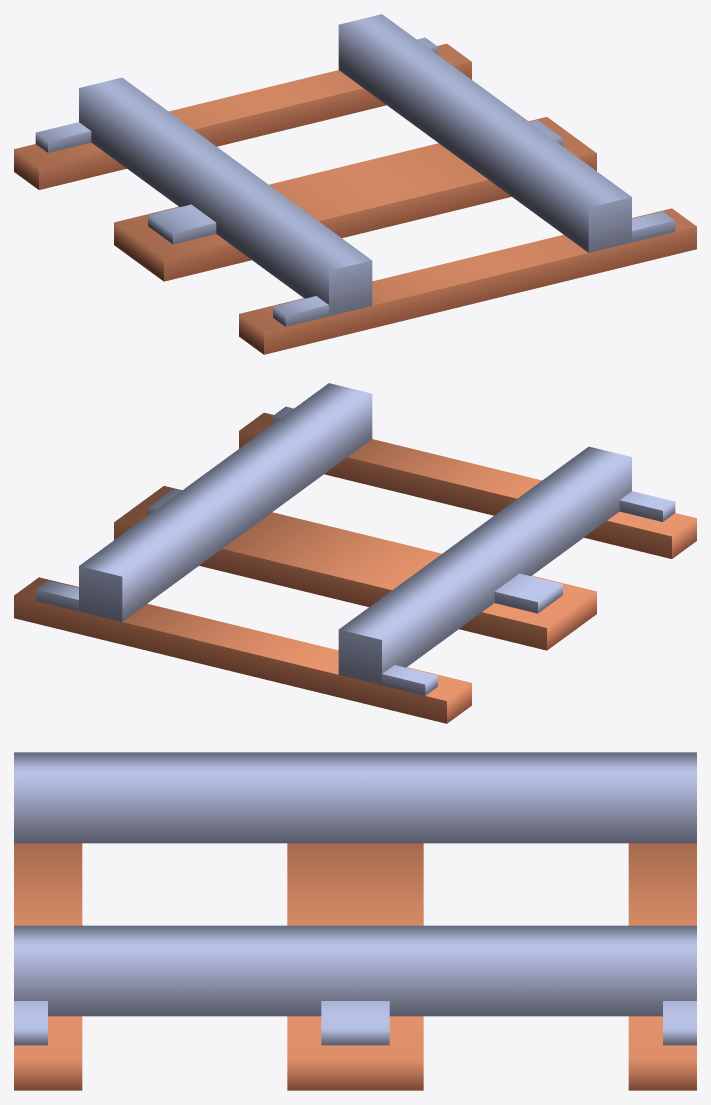
File: kenney-train-track-detailed.glb
3 renders of one model, top to bottom at view 1: azimuth 30°, elevation 25°; view 2: azimuth 150°, elevation 25°; view 3: azimuth 270°, elevation 25°, orthographic. The views are drawn at different scales.
Parts seen in each view (by area): view 1: track-detailed; view 2: track-detailed; view 3: track-detailed.
Boxes of the visible parts, x1,y1,x2,y2 form: track-detailed: (14,14,696,354); track-detailed: (14,383,696,723); track-detailed: (14,752,696,1090).
Size of the model in its own units: 1 by 0.15 by 1.
Materials: 1 (1 with a texture image).
